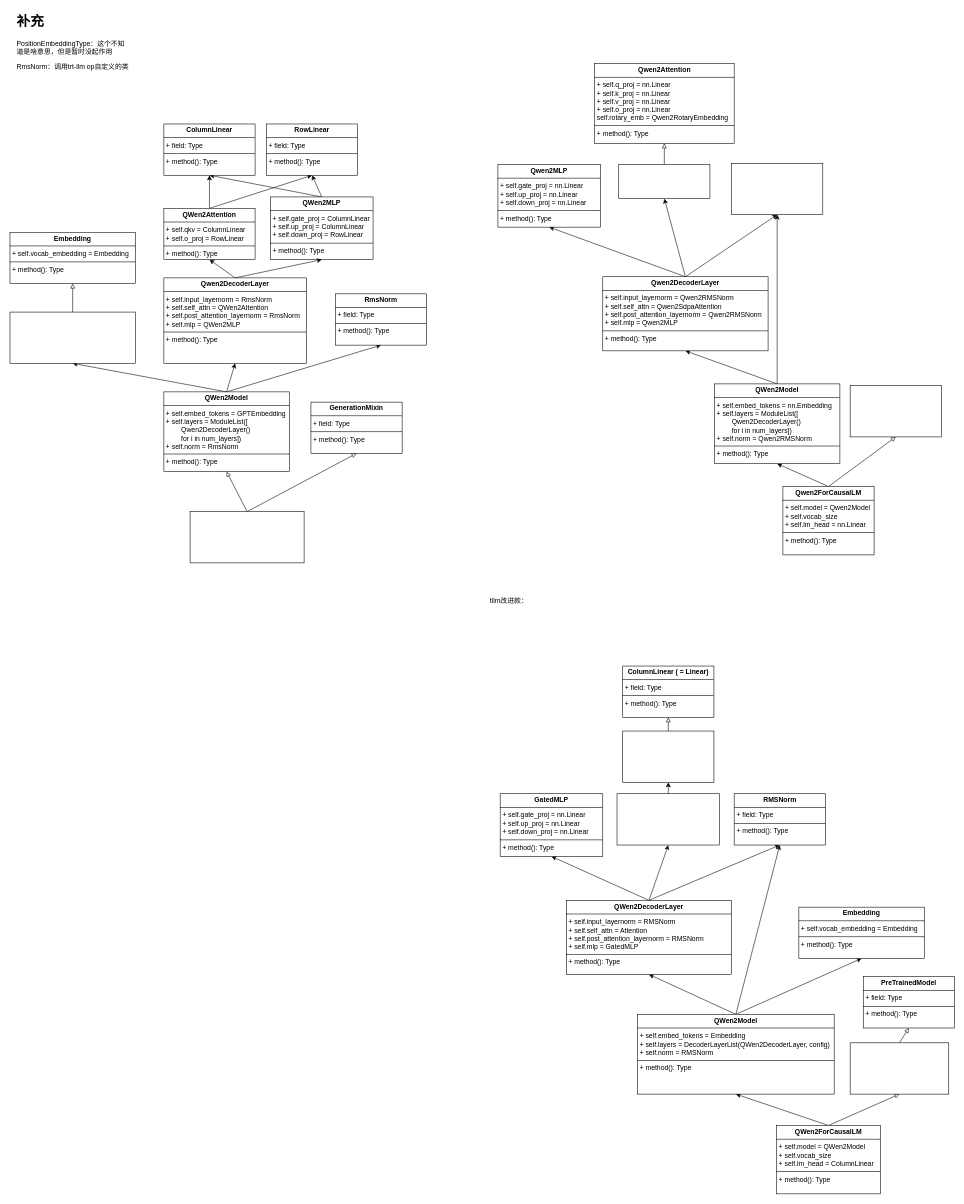
Image size: 964x1204. Some labels were removed from this diagram. The box of each missing label's shape, as (x1, y1, x2, y2) in pixels:
Attention + self.qkv = QKVColumnLinear + self.dense = RowLinear + method(): Type: (616, 793, 720, 845)
DecoderModelForCausalLM + field: Type + method(): Type: (850, 1042, 949, 1094)
GPTEmbedding + self.vocab_embedding = Embedding + method(): Type: (9, 312, 135, 363)
QKVColumnLinear + field: Type + method(): Type: (622, 730, 714, 782)
Qwen2ForCausalLM + self.lm_head = ColumnLinear + method(): Type: (190, 511, 304, 563)
Qwen2PreTrainedModel + field: Type + method(): Type: (850, 385, 941, 437)
Qwen2RMSNorm + field: Type + method(): Type: (731, 163, 823, 215)
Qwen2SdpaAttention + method(): Type: (618, 164, 710, 199)
